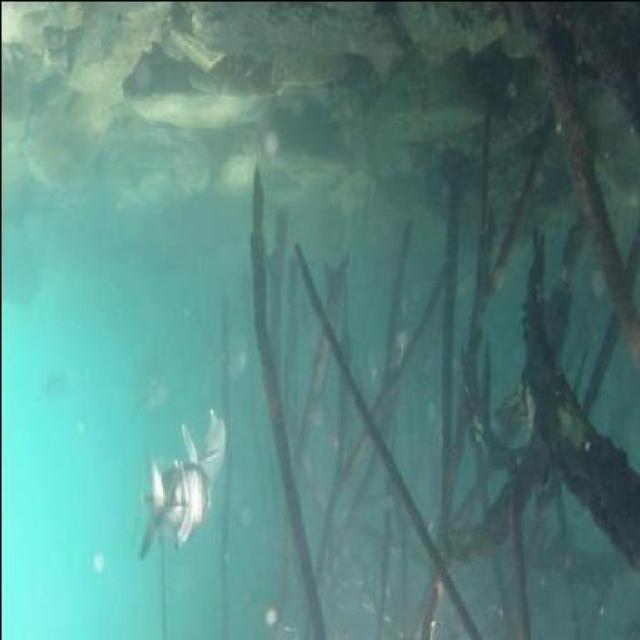Caranx_sexfasciatus_juvenile: (132, 438, 210, 570), (164, 397, 227, 500), (130, 376, 164, 426)
